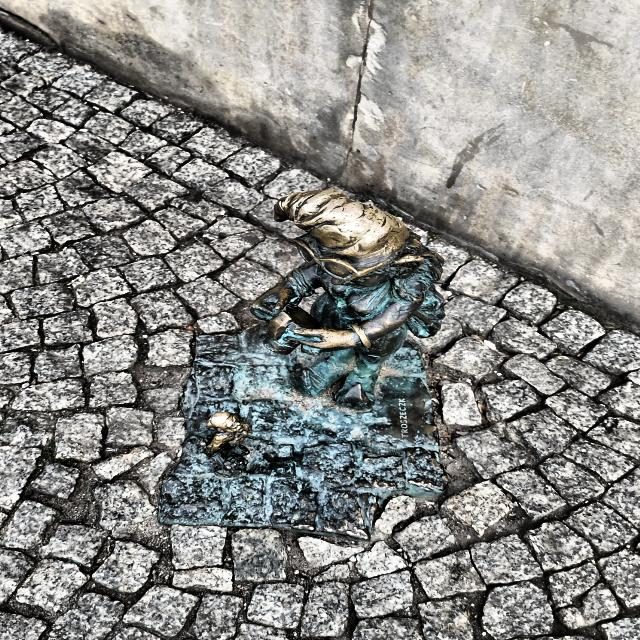Troszka i Adoratorek: (157, 188, 445, 540)
